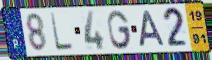2: (161, 6, 192, 51)
4: (82, 9, 107, 52)
8: (24, 11, 49, 53)
A: (138, 9, 167, 49)
G: (106, 9, 133, 51)
L: (48, 11, 75, 51)
